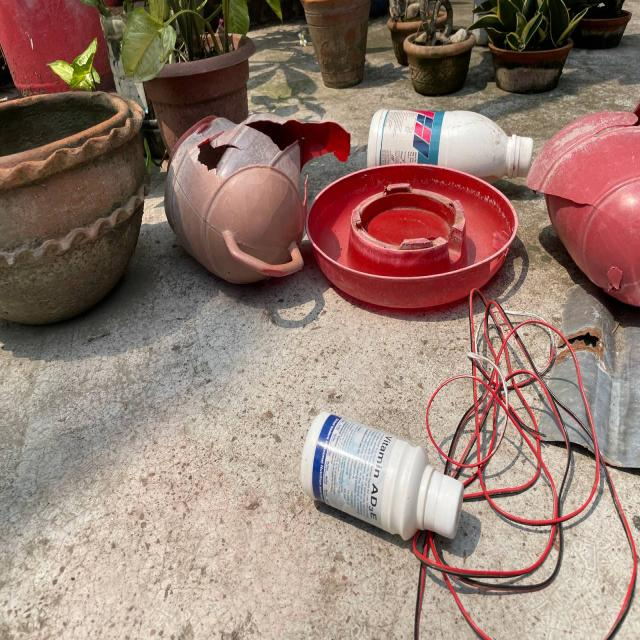Cable: (454, 263, 593, 640)
Metal: (560, 286, 640, 480)
Plastics: (158, 79, 640, 303), (300, 401, 474, 539)
